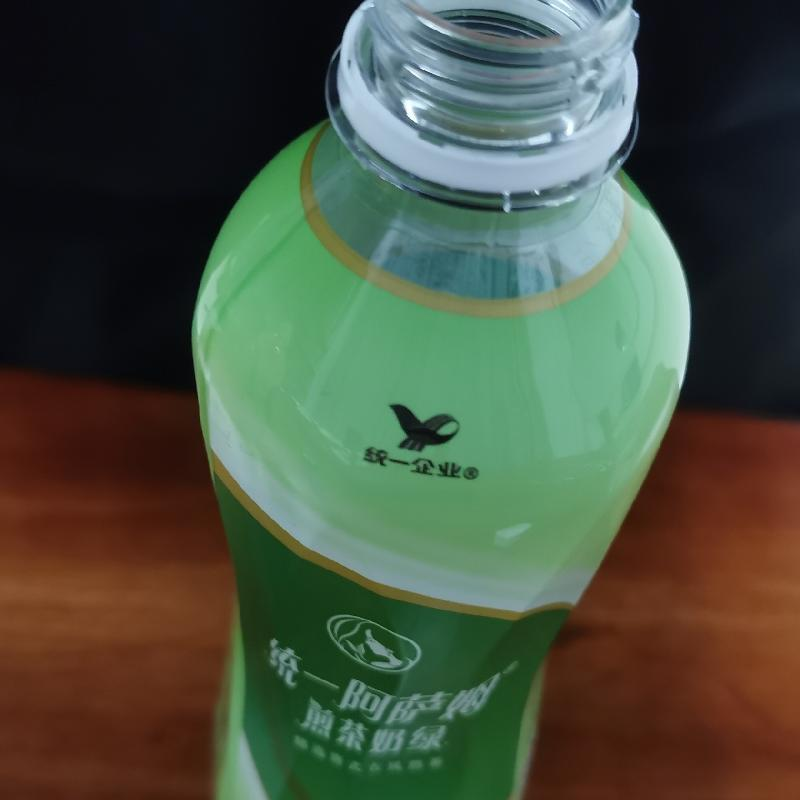bottles: (183, 6, 700, 799)
